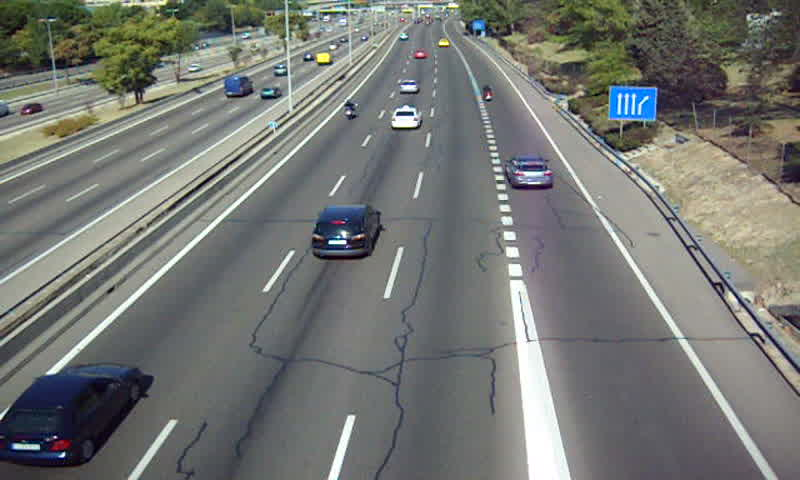car: (1, 365, 143, 466), (311, 205, 382, 257), (505, 156, 553, 190), (390, 106, 419, 129), (399, 78, 420, 94), (411, 49, 429, 60)
motorcycle: (343, 98, 358, 122), (481, 82, 492, 102)
